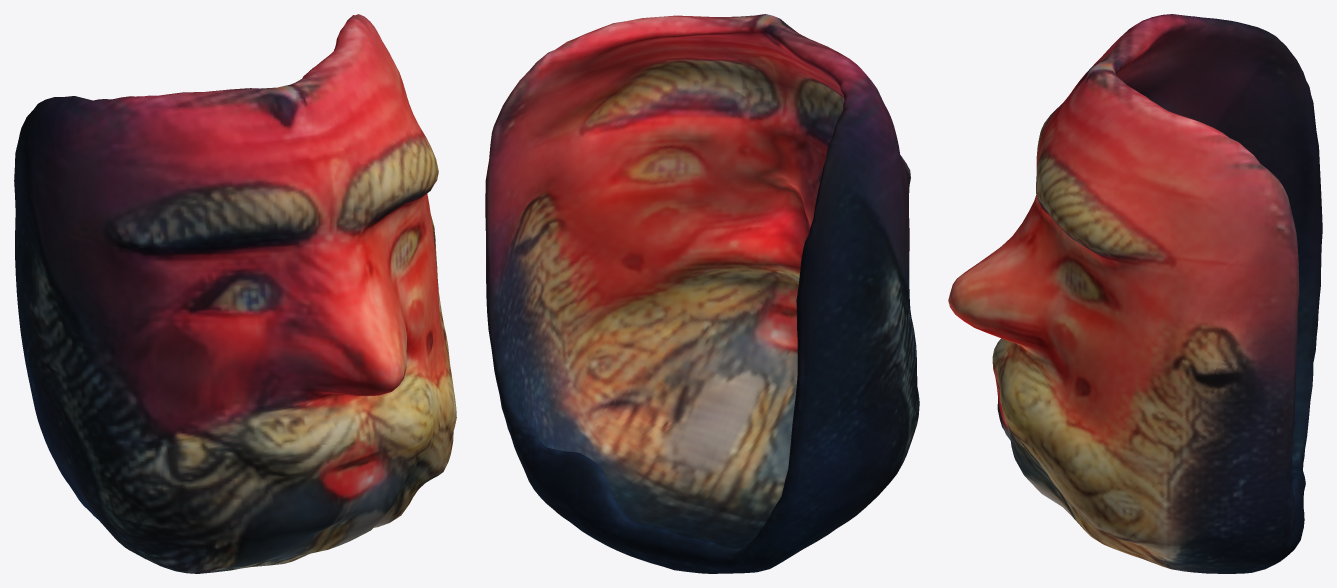
File: viejoazul.glb
3 views of the same model, side by side, from view 1: azimuth 30°, elevation 25°; view 2: azimuth 150°, elevation 25°; view 3: azimuth 270°, elevation 25° (orthographic). The views are drawn at different scales.
Visible parts, largest first — view 1: mesh; view 2: mesh; view 3: mesh.
Part boxes in pixels (x1,y1,x2,y2): mesh: [14, 14, 456, 573]; mesh: [485, 14, 919, 573]; mesh: [948, 14, 1322, 573].
Bounding box in the file's own units: 1.35 × 1.67 × 1.2.
1 material, 1 textured.
